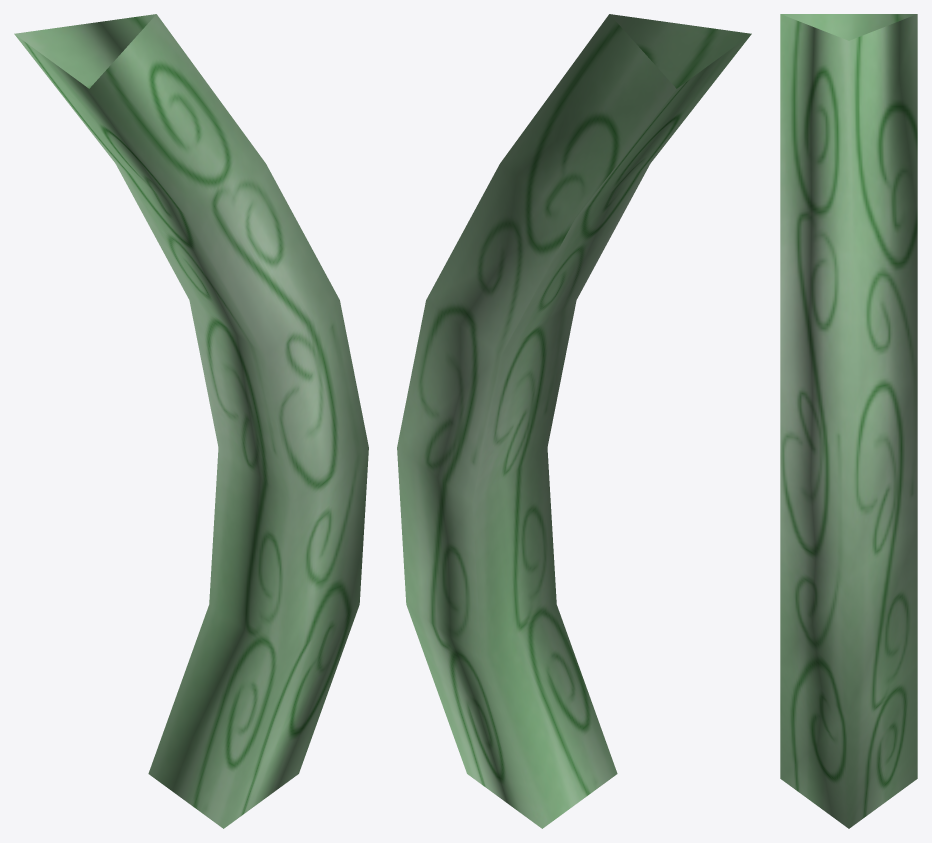
The model's file is champ_queue_03.FBX.
3 renders of one model, left to right at view 1: azimuth 30°, elevation 25°; view 2: azimuth 150°, elevation 25°; view 3: azimuth 270°, elevation 25°, orthographic. The views are drawn at different scales.
Parts seen in each view (by area): view 1: Object004; view 2: Object004; view 3: Object004.
Part boxes in pixels (box(x1,y1,x2,y2)): Object004: box(14, 14, 368, 828); Object004: box(397, 14, 751, 828); Object004: box(780, 14, 917, 828).
Bounding box in the file's own units: 16.26 × 38.9 × 6.68.
